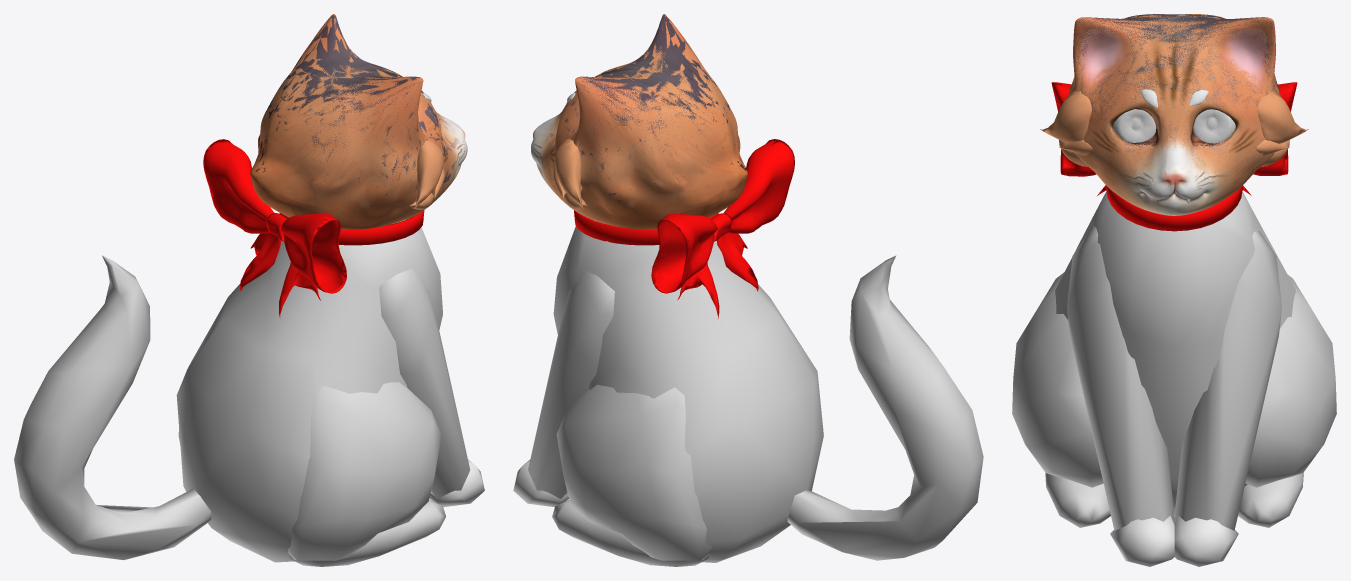
File: TuxedoCat.fbx
3 views of the same model, side by side, from view 1: azimuth 30°, elevation 25°; view 2: azimuth 150°, elevation 25°; view 3: azimuth 270°, elevation 25° (orthographic). The views are drawn at different scales.
Parts seen in each view (by area): view 1: base body, head, tail, leg right, bow, arm right, headtux, foot right, collar, paw right; view 2: base body, head, tail, leg left, bow, arm left, headtux, foot left, collar, paw left; view 3: head, base body, arm right, arm left, leg right, leg left, headtux, paw right, paw left, foot right, foot left, collar (+3 smaller).
Part boxes in pixels (x1,y1,x2,y2): base body: (176,218,442,562); head: (250,14,467,229); tail: (14,255,211,560); leg right: (288,382,441,560); bow: (203,139,346,318); arm right: (379,268,470,498); headtux: (255,15,467,207); foot right: (288,499,445,566); collar: (279,210,424,245); paw right: (429,459,484,507); base body: (553,220,823,562); head: (531,14,747,229); tail: (787,255,983,560); leg left: (556,384,711,560); bow: (651,139,794,318); arm left: (528,270,614,498); headtux: (533,14,746,208); foot left: (552,500,709,566); collar: (574,210,718,245); paw left: (513,459,568,507); head: (1040,14,1308,215); base body: (1055,191,1296,514); arm right: (1067,225,1174,530); arm left: (1174,231,1281,530); leg right: (1012,272,1103,487); leg left: (1245,275,1336,487); headtux: (1040,14,1284,204); paw right: (1110,516,1174,566); paw left: (1174,516,1238,566); foot right: (1045,473,1110,527); foot left: (1238,473,1303,527); collar: (1106,186,1242,231).
Size of the model in its own units: 439 by 435 by 249.
Materials: 10 (2 with a texture image).
